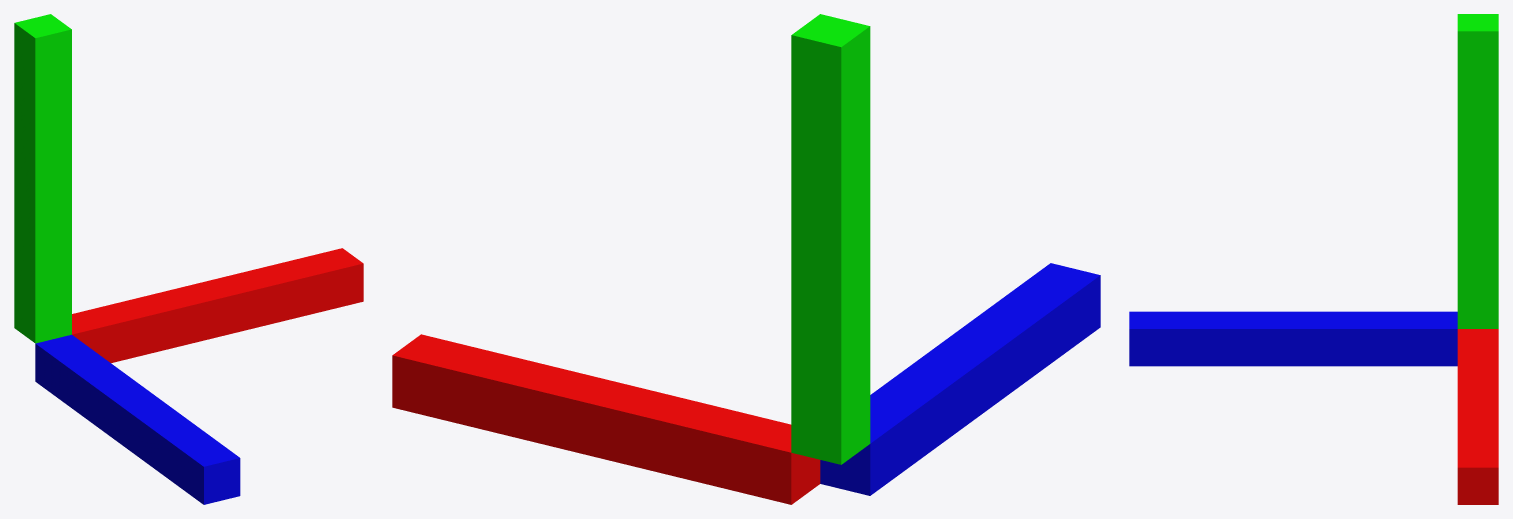
Rendered from Axis.fbx.
3 renders of one model, left to right at view 1: azimuth 30°, elevation 25°; view 2: azimuth 150°, elevation 25°; view 3: azimuth 270°, elevation 25°, orthographic. The views are drawn at different scales.
Parts seen in each view (by area): view 1: Axis; view 2: Axis; view 3: Axis.
Part boxes in pixels (box(x1,y1,x2,y2)): Axis: box(14, 14, 363, 504); Axis: box(392, 14, 1100, 504); Axis: box(1129, 14, 1498, 504).
Bounding box in the file's own units: 0.09 × 0.09 × 0.09.
